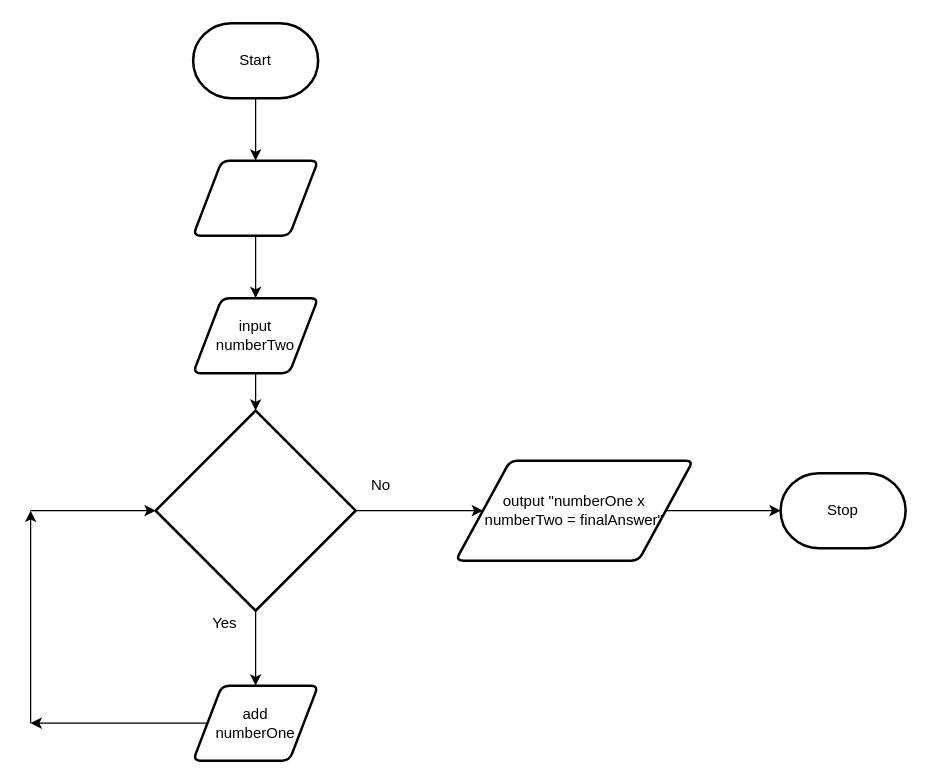
Image size: 929x783. Some labels were removed from this diagram. The centre of each missing label's shape, as x and y in pixels:
input numberOne: pixel 255 197
while timesAdded == numberTwo: pixel 255 510
